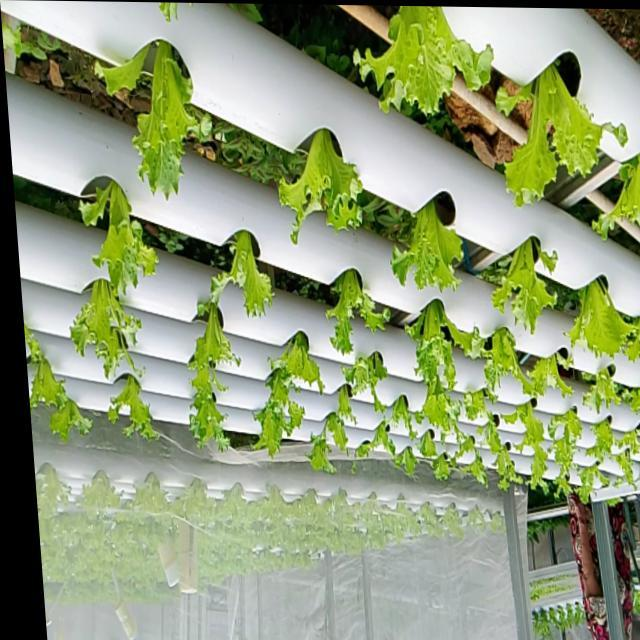Baby: (501, 69, 632, 210), (359, 7, 499, 118), (138, 42, 215, 202), (282, 130, 367, 246), (84, 182, 162, 297), (191, 296, 243, 452), (395, 193, 468, 292), (74, 281, 144, 380), (496, 238, 562, 335), (569, 280, 638, 363), (329, 270, 393, 355), (214, 232, 277, 318), (476, 328, 548, 399), (256, 370, 307, 458), (346, 352, 404, 413), (272, 332, 328, 393), (27, 340, 73, 414), (111, 376, 162, 442), (418, 377, 464, 440), (551, 409, 585, 494), (580, 466, 612, 504), (591, 421, 617, 464), (466, 391, 491, 422), (618, 450, 638, 488), (458, 433, 481, 465)
